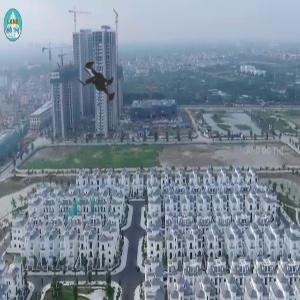drone: (58, 35, 147, 124)
